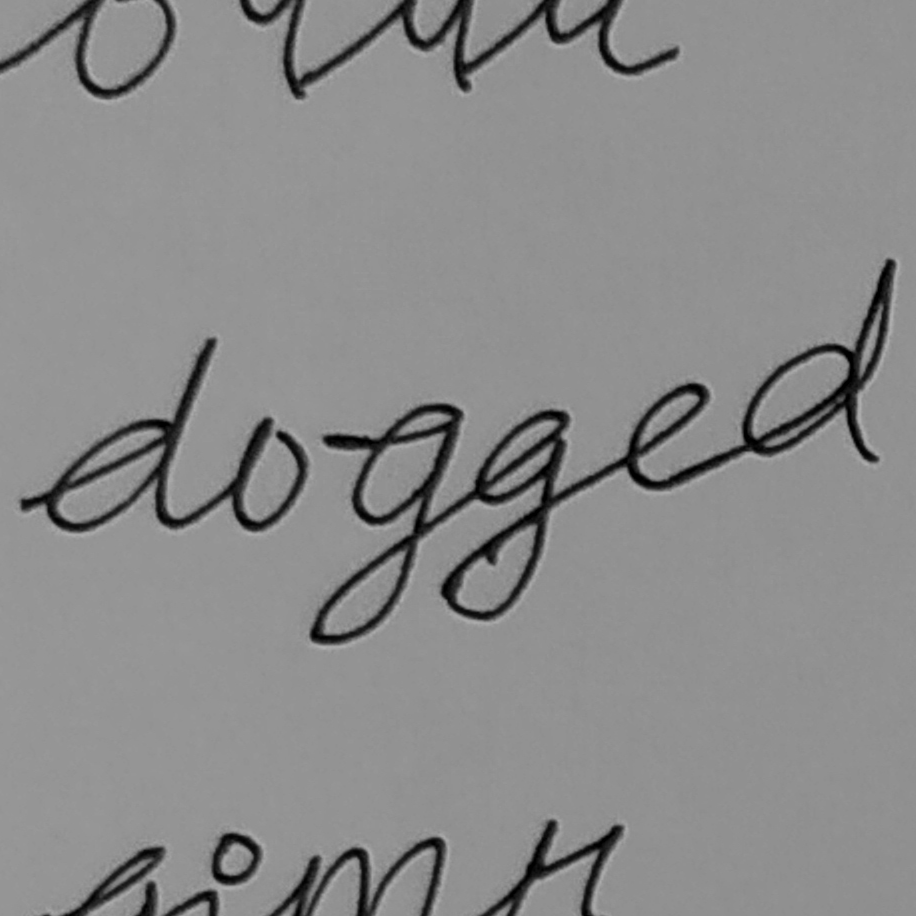d: (38, 333, 217, 534), (735, 255, 901, 470)
e: (619, 377, 717, 494)
g: (304, 398, 466, 648), (438, 405, 574, 623)
o: (224, 410, 310, 539)
